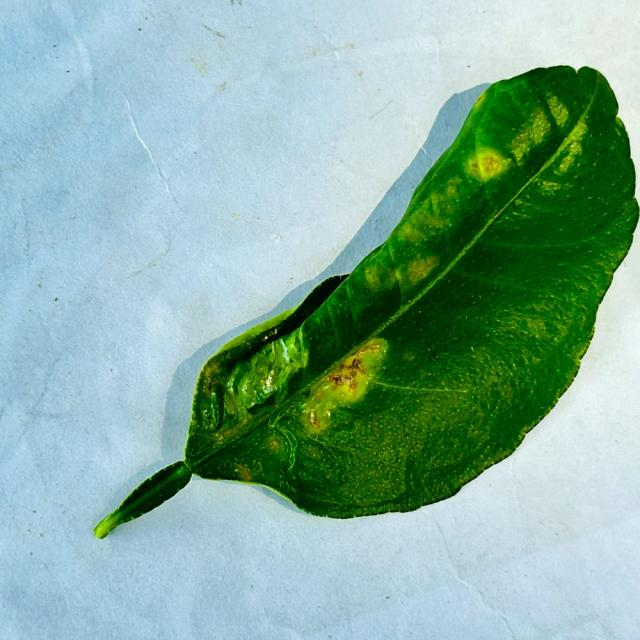Anthracnose: (302, 340, 385, 430), (465, 151, 513, 186), (469, 88, 489, 112), (236, 463, 253, 480), (308, 409, 319, 426), (269, 438, 280, 451)
Lemon: (93, 66, 639, 538)
